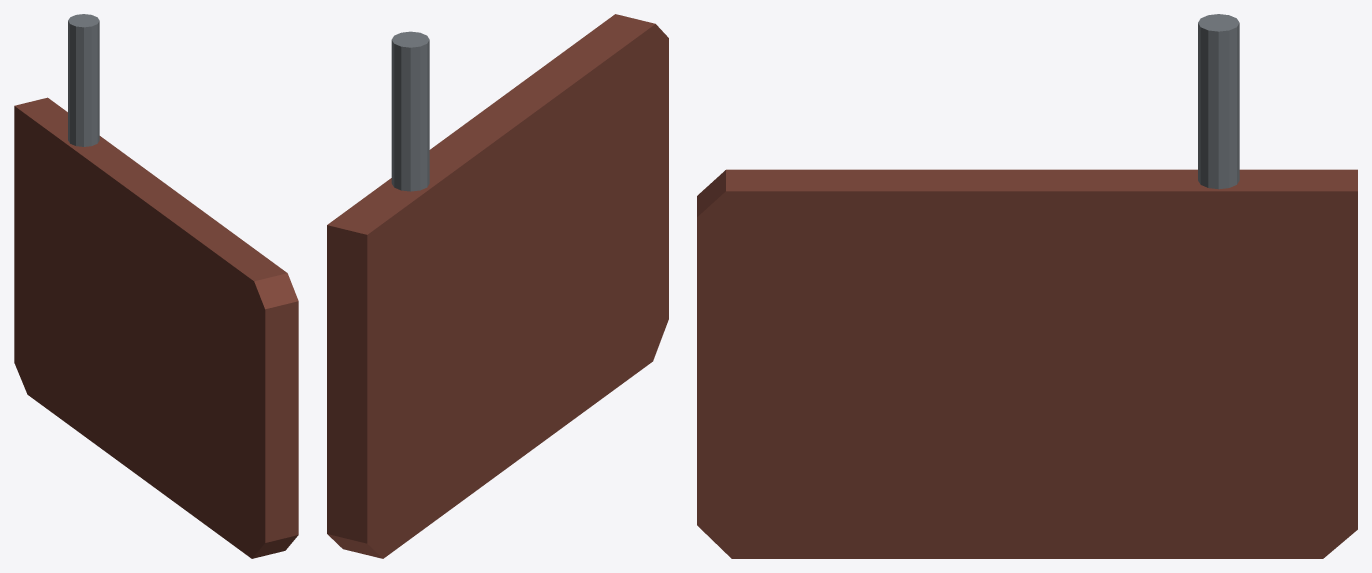
The picture shows the model from 3 angles, left to right: view 1: azimuth 30°, elevation 25°; view 2: azimuth 150°, elevation 25°; view 3: azimuth 270°, elevation 25°; orthographic projection. The views are drawn at different scales.
Parts seen in each view (by area): view 1: component.yaw.mesh; view 2: component.yaw.mesh; view 3: component.yaw.mesh.
Boxes of the visible parts, bbox=[...] form: component.yaw.mesh: bbox=[14, 14, 298, 558]; component.yaw.mesh: bbox=[327, 14, 668, 558]; component.yaw.mesh: bbox=[697, 14, 1357, 558].
Bounding box in the file's own units: 0.44 × 5 × 5.7.
